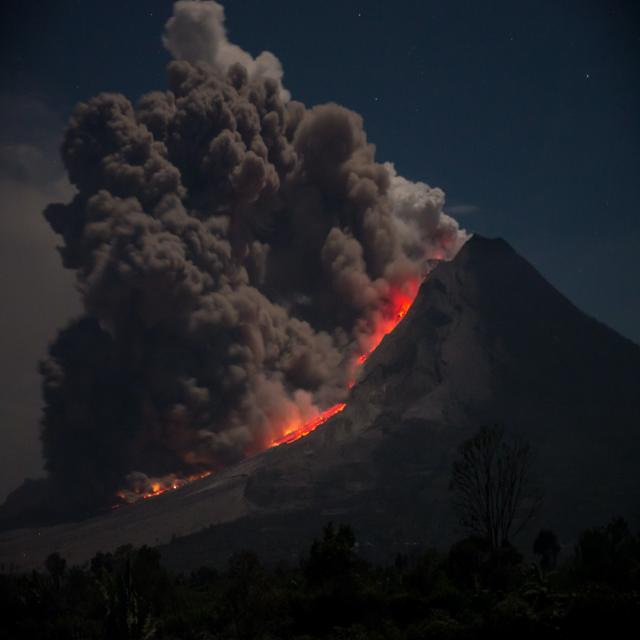Smoke: (70, 72, 350, 384)
